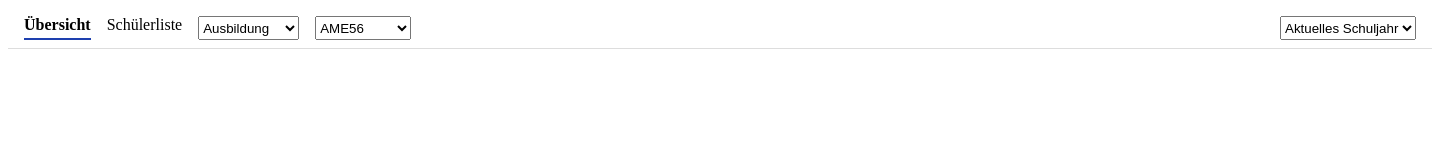
Scenario: Navigation › clears the klasse URL param when the Bereich selection changes
Check: the dropdown named "Klasse" shows "AME56", box [315, 16, 411, 40]
Select "Berufsschule" in the dropdown named "Bereich": (249, 28) [198, 16, 299, 40]
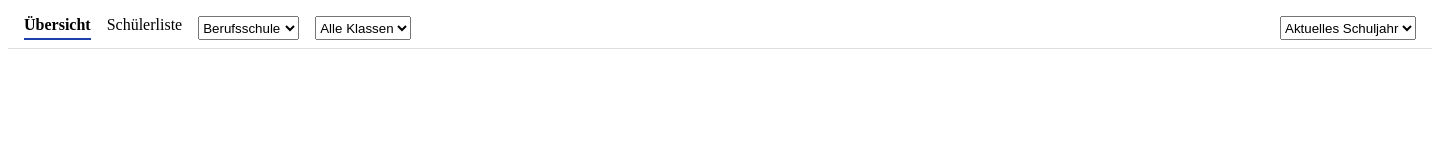
Check: the dropdown named "Klasse" shows "Alle Klassen", box [315, 16, 411, 40]
